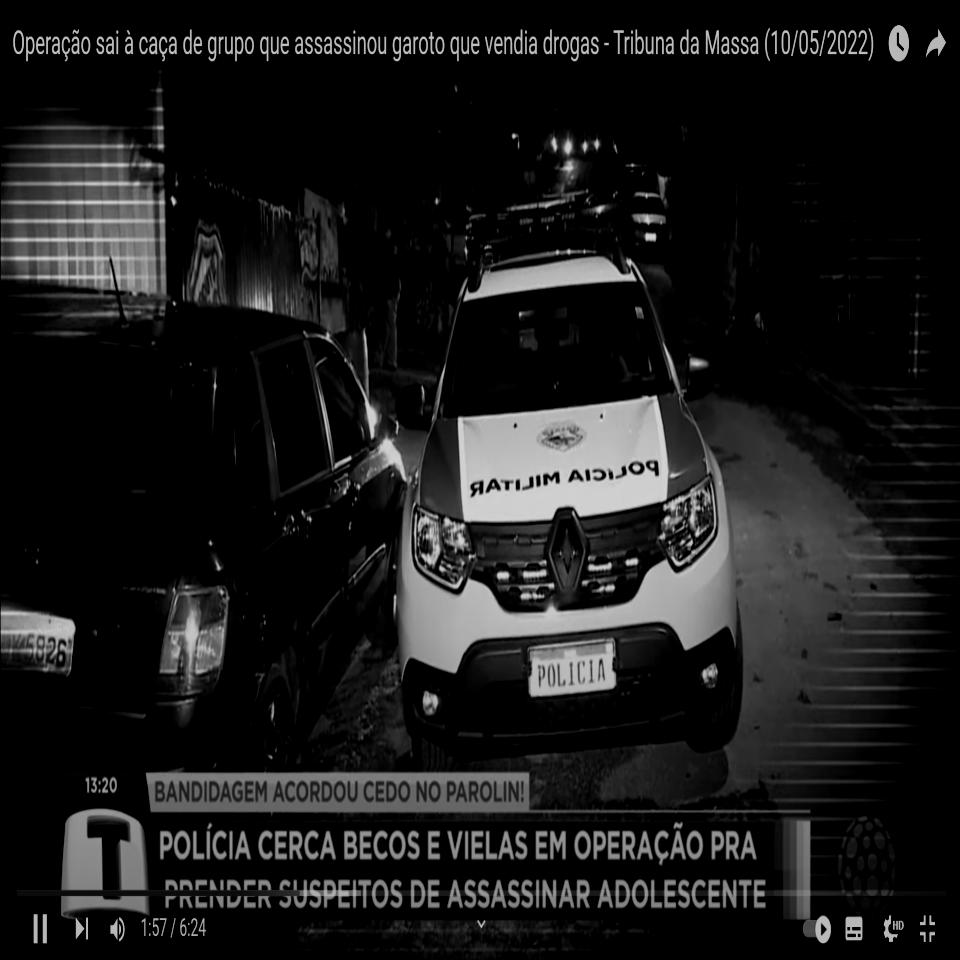viatura: (377, 176, 764, 749)
